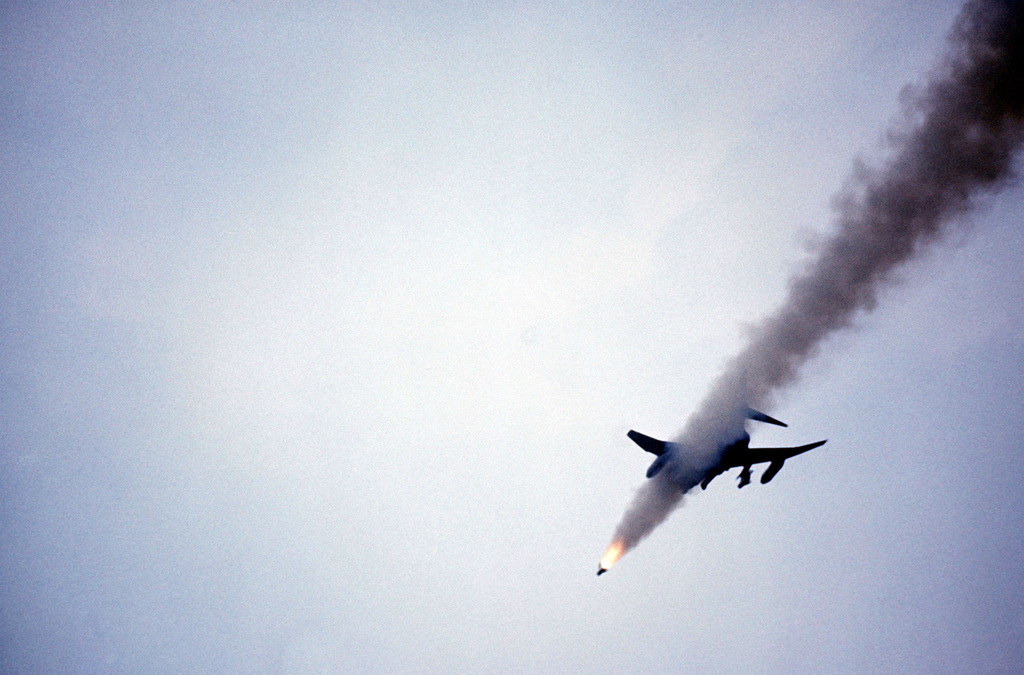F4: (626, 368, 829, 502)
